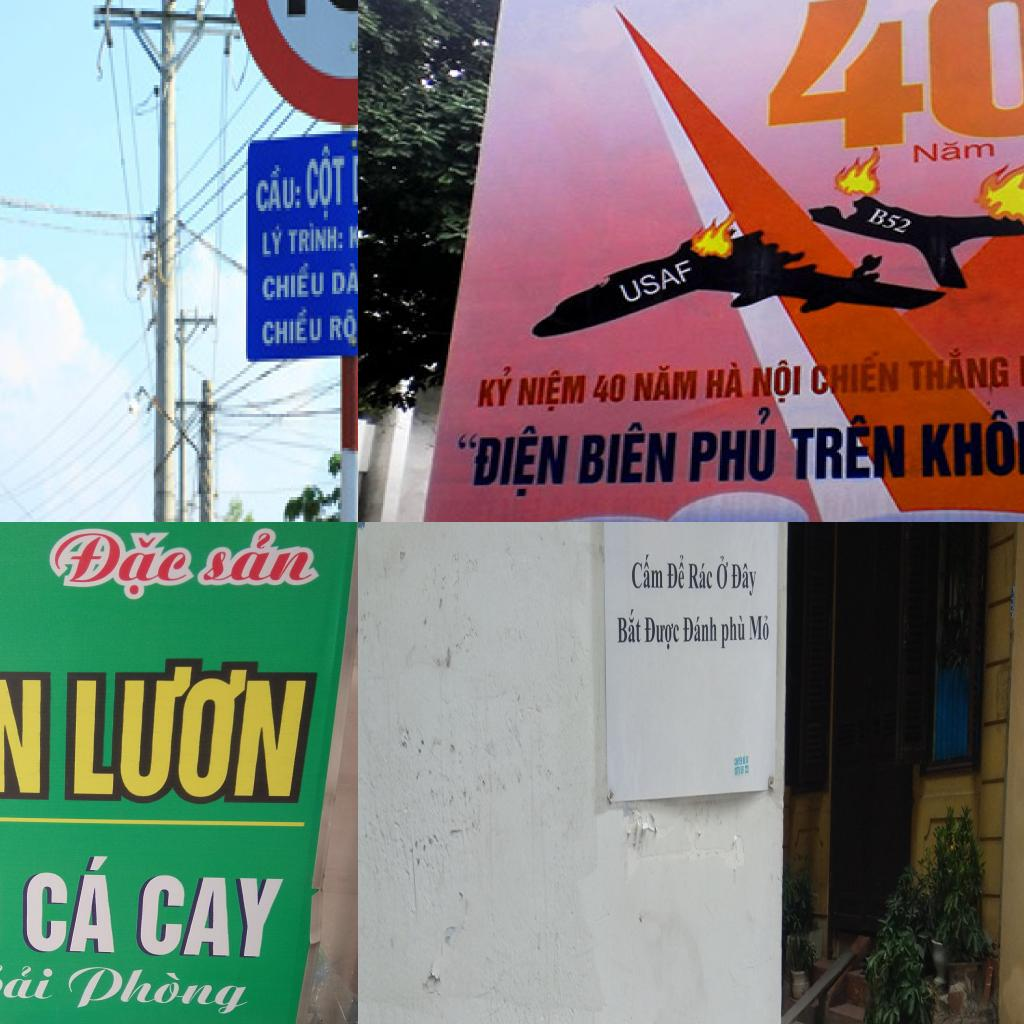text: (759, 0, 1024, 153), (55, 657, 319, 805), (133, 866, 288, 960), (16, 849, 122, 957), (50, 530, 199, 602), (446, 422, 577, 502), (67, 962, 253, 1017), (0, 615, 51, 801), (783, 410, 908, 484), (913, 398, 1024, 480), (681, 404, 779, 490), (568, 418, 686, 489), (196, 528, 324, 588), (906, 346, 1012, 392), (810, 348, 902, 397), (608, 259, 702, 306), (517, 366, 590, 416), (258, 260, 328, 306), (306, 144, 346, 224), (260, 306, 326, 352), (254, 162, 303, 220), (631, 365, 701, 405), (750, 355, 806, 405), (908, 138, 999, 168), (470, 360, 522, 411), (0, 960, 59, 1001), (285, 220, 344, 257), (701, 359, 746, 403), (630, 550, 666, 596), (643, 608, 680, 652), (864, 207, 918, 237), (593, 369, 629, 406), (681, 611, 718, 647), (328, 260, 358, 303), (730, 557, 760, 599), (327, 306, 358, 346), (615, 604, 642, 648), (686, 553, 714, 595), (719, 611, 747, 652), (260, 220, 285, 260), (665, 549, 687, 591), (747, 608, 772, 644), (715, 550, 731, 596), (348, 140, 358, 210), (733, 754, 743, 766), (734, 766, 740, 776), (740, 765, 744, 775), (745, 764, 749, 774), (743, 753, 746, 765), (746, 754, 749, 765)
